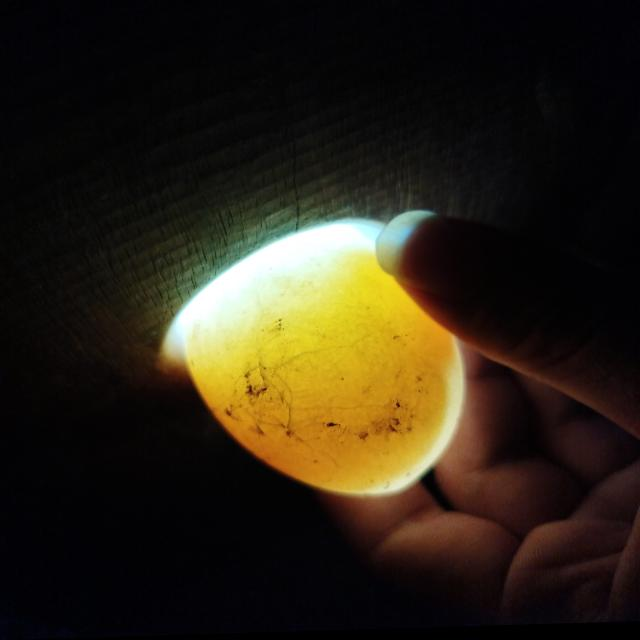Rachadura: (233, 336, 377, 467)
